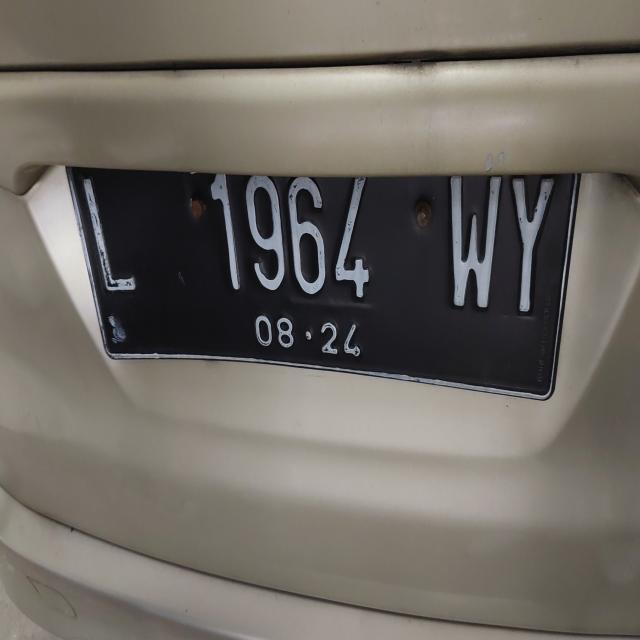1: (196, 160, 251, 317)
4: (330, 168, 383, 310)
6: (282, 165, 332, 307)
9: (238, 171, 290, 297)
L: (76, 165, 150, 325)
W: (434, 158, 504, 324)
Y: (504, 155, 556, 343)
